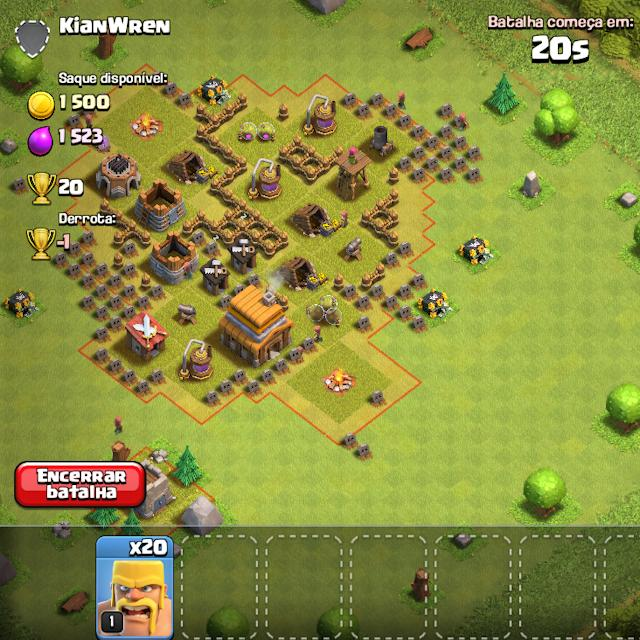Arqueira: (336, 146, 372, 198)
Canhao: (174, 300, 199, 327), (344, 236, 364, 262)
ValueCoin: (58, 90, 116, 118)
ValueElixir: (56, 124, 116, 152)
